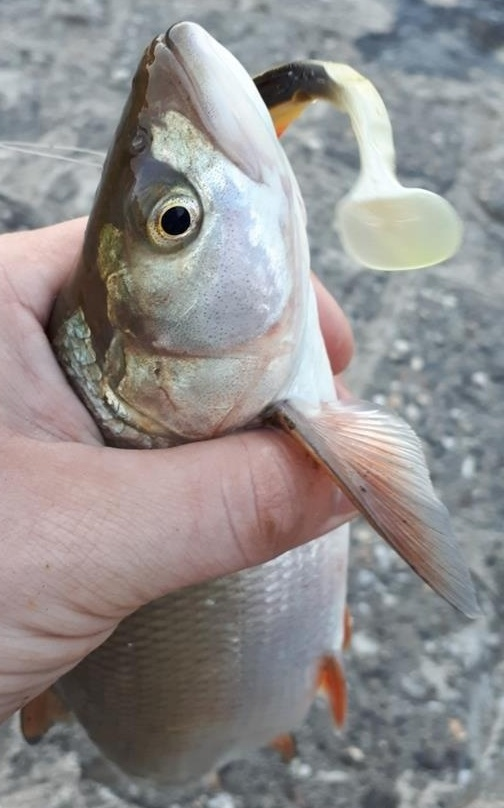Aspius aspius: (20, 20, 484, 788)
